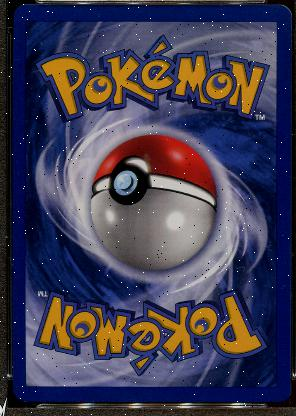Card: (11, 1, 291, 405)
Scratch: (261, 240, 274, 252), (232, 264, 244, 272), (32, 69, 41, 75), (12, 57, 21, 62), (22, 119, 30, 124), (94, 14, 100, 20), (278, 284, 286, 288), (227, 120, 233, 122)
